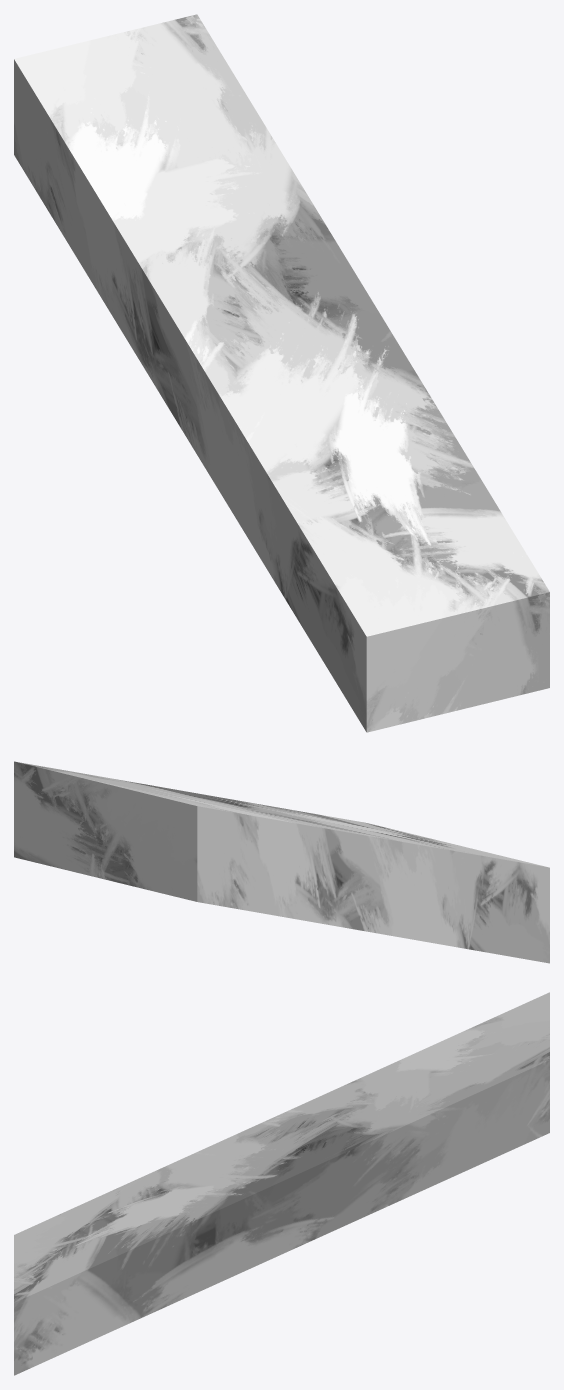
Rendered from Village_Clay_Ledge_Left_A.fbx.
The picture shows the model from 3 angles, top to bottom: view 1: azimuth 30°, elevation 25°; view 2: azimuth 150°, elevation 25°; view 3: azimuth 270°, elevation 25°; orthographic projection. The views are drawn at different scales.
Visible parts, largest first — view 1: Village_Wall_2m_Roof_A.051; view 2: Village_Wall_2m_Roof_A.051; view 3: Village_Wall_2m_Roof_A.051.
Part boxes in pixels (x1,y1,x2,y2): Village_Wall_2m_Roof_A.051: (14, 14, 549, 732); Village_Wall_2m_Roof_A.051: (14, 761, 549, 963); Village_Wall_2m_Roof_A.051: (14, 992, 549, 1375).
Size of the model in its own units: 30 by 65 by 100.
